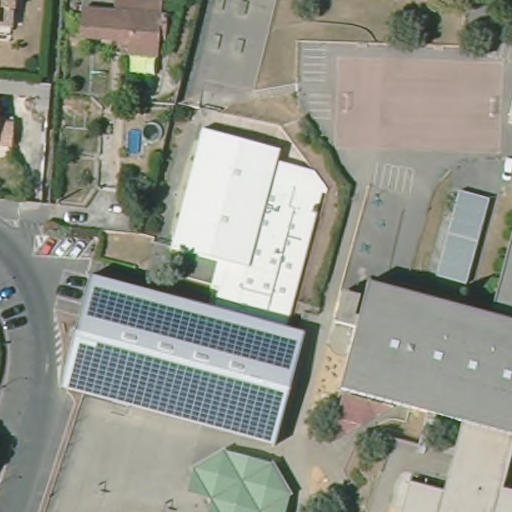pool: (122, 127, 149, 159)
